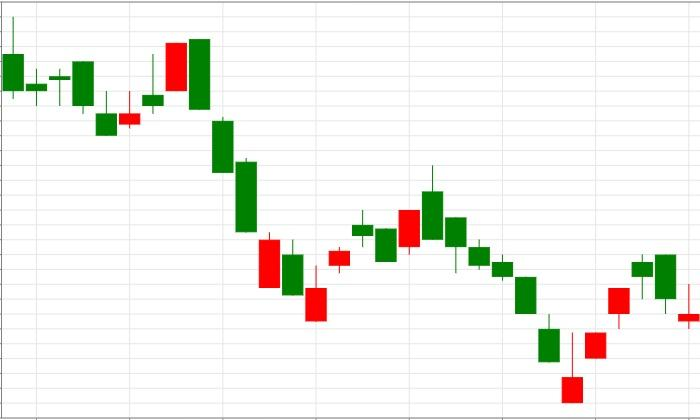inverse_hammer_rise: (421, 165, 583, 403)
three_black_crows_fall: (96, 38, 257, 232)
